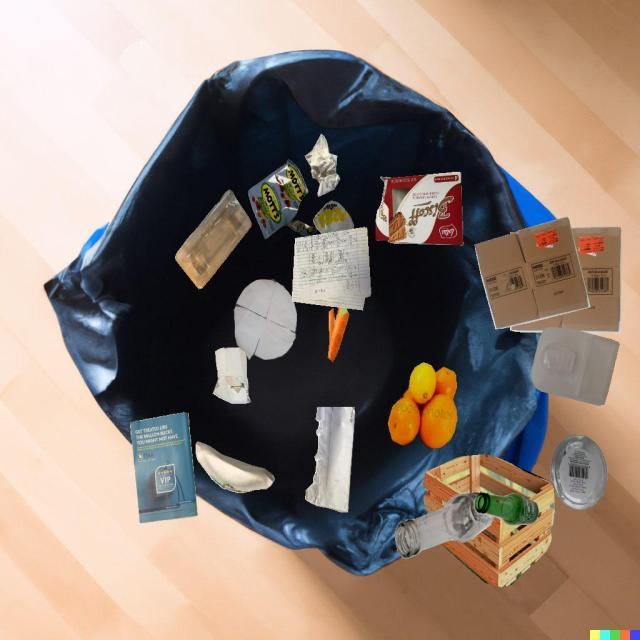biowaste: (388, 362, 457, 448), (328, 307, 349, 362)
cardboard: (474, 217, 590, 329), (510, 227, 621, 333), (376, 172, 463, 245), (213, 347, 251, 403)
combustible waste: (423, 454, 555, 587)
glass: (395, 492, 495, 559), (474, 493, 539, 526), (313, 200, 354, 234)
paper: (130, 412, 198, 523), (292, 227, 371, 310), (305, 407, 355, 513), (234, 279, 297, 360), (195, 441, 275, 493), (305, 134, 340, 197)
plastic: (175, 190, 252, 289), (531, 327, 619, 405), (551, 435, 607, 510)
trash: (247, 159, 318, 240)
